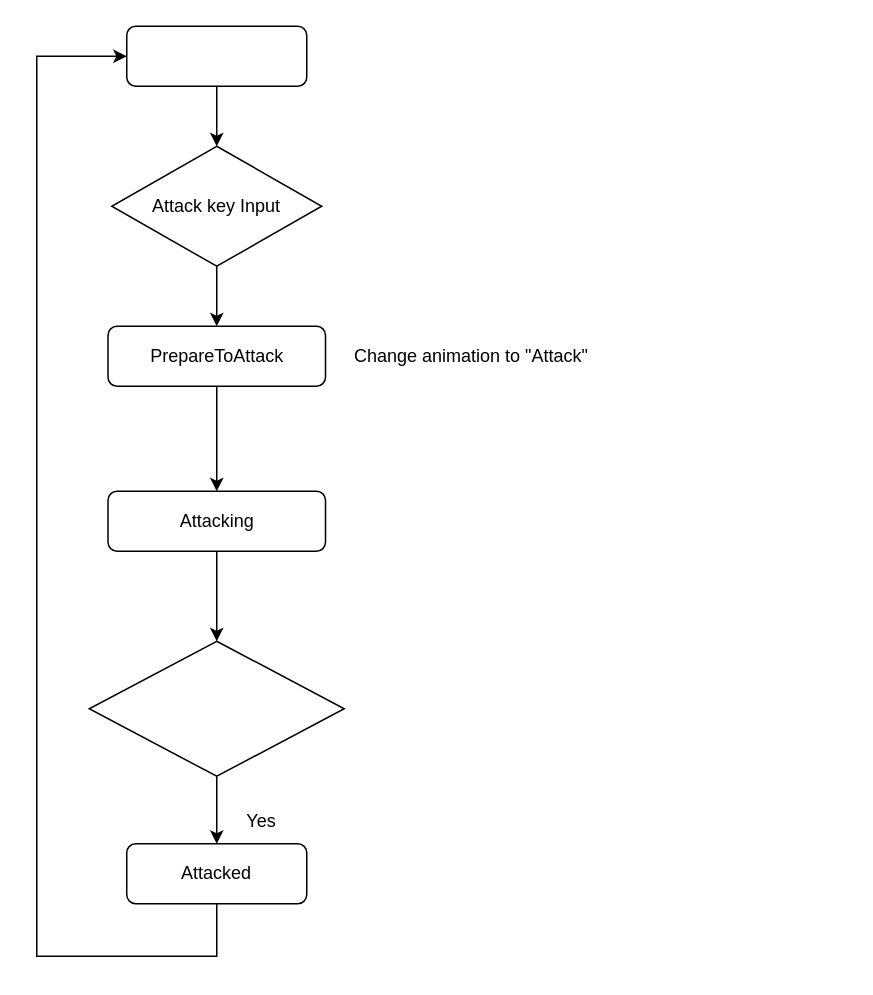
The diagram is 873 pixels wide and 995 high, and some of its shapes have lost their labels. The centre of each missing label's shape, as x and y in pixels:
"Idle" goes at (216,55).
"Is Animation finished?" goes at (216,708).
